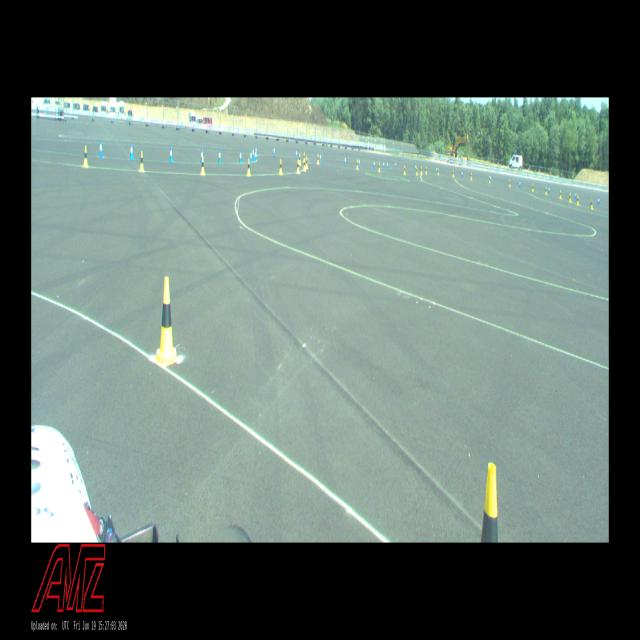blue_cone: (98, 139, 104, 158), (130, 143, 134, 160), (218, 149, 222, 163), (170, 146, 173, 163), (200, 148, 203, 164), (239, 150, 242, 164), (252, 148, 255, 159), (254, 151, 257, 161), (255, 146, 258, 156), (250, 150, 252, 162), (319, 153, 322, 161), (273, 146, 275, 157), (374, 160, 376, 169), (386, 160, 388, 169), (358, 158, 360, 167), (344, 157, 346, 166), (598, 196, 600, 205), (395, 161, 397, 169), (574, 191, 576, 199), (296, 150, 298, 158), (518, 180, 520, 188), (461, 170, 463, 177), (548, 187, 550, 194), (383, 160, 384, 169), (415, 164, 416, 171), (436, 166, 437, 173)
yellow_cone: (154, 276, 178, 367), (481, 463, 498, 542), (83, 145, 89, 168), (139, 151, 145, 172), (201, 156, 205, 174), (247, 159, 251, 176), (279, 159, 283, 175), (296, 159, 300, 173), (576, 195, 580, 205), (303, 158, 306, 171), (303, 152, 306, 163), (559, 189, 562, 199), (306, 157, 308, 169), (508, 179, 511, 187), (299, 153, 301, 165), (591, 199, 593, 209), (378, 162, 380, 172), (569, 192, 571, 202), (356, 159, 358, 169), (317, 154, 319, 163), (470, 172, 472, 181), (545, 186, 547, 195), (404, 165, 406, 174), (416, 167, 418, 176), (532, 183, 534, 192), (452, 169, 454, 177), (420, 166, 422, 174), (425, 166, 427, 174), (437, 168, 439, 175), (489, 176, 490, 183)
